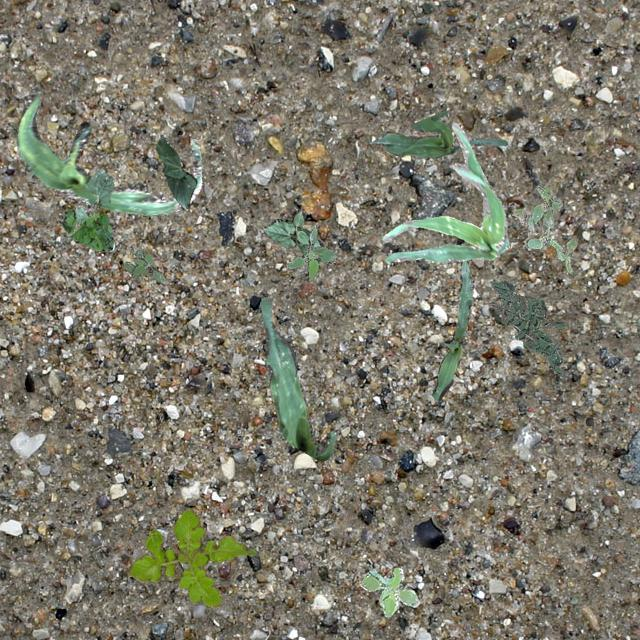crop: (16, 84, 200, 214), (382, 122, 508, 262), (260, 296, 336, 460), (372, 108, 506, 156), (432, 258, 472, 399), (156, 136, 196, 208), (262, 210, 322, 253), (74, 168, 112, 225)
weed: (127, 506, 256, 606), (490, 280, 564, 374), (512, 184, 576, 274), (284, 224, 336, 280), (358, 566, 416, 616), (59, 208, 112, 250), (121, 248, 166, 284)
